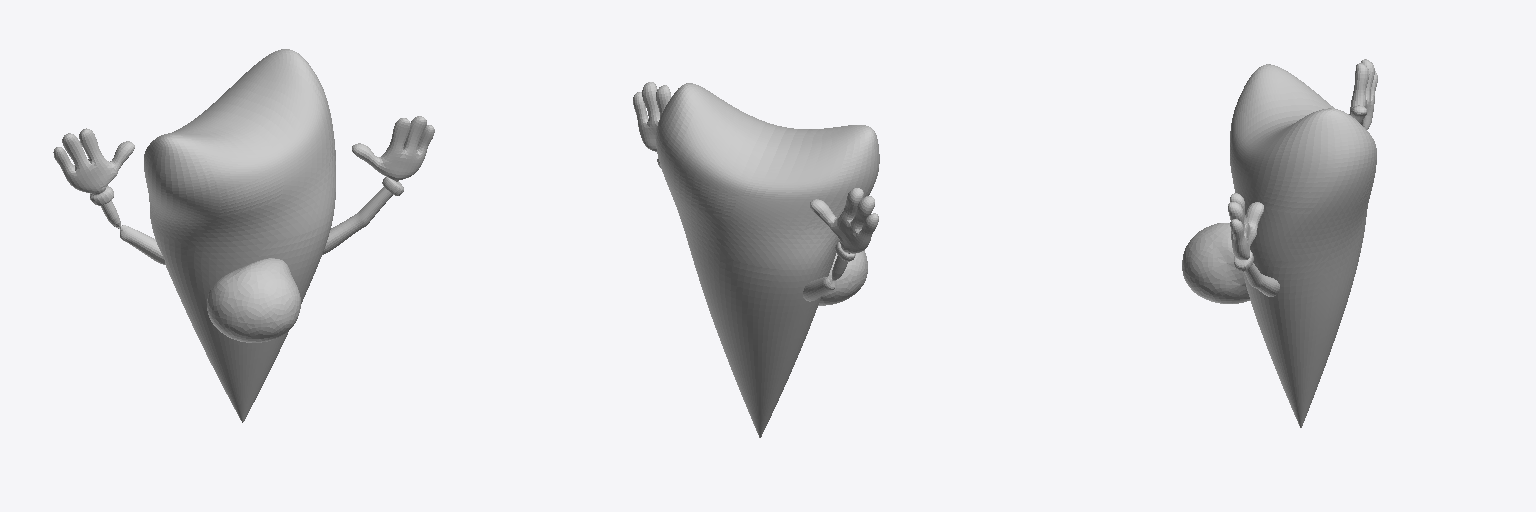
Rendered from java-duke4.obj.
3 views of the same model, side by side, from view 1: azimuth 30°, elevation 25°; view 2: azimuth 150°, elevation 25°; view 3: azimuth 270°, elevation 25° (orthographic).
Parts seen in each view (by area): view 1: javadude, javadude_hands, javadude_nase; view 2: javadude, javadude_hands, javadude_nase; view 3: javadude, javadude_nase, javadude_hands.
Part boxes in pixels (x1,y1,x2,y2): javadude: (144,49,335,422); javadude_hands: (53,116,434,264); javadude_nase: (207,258,300,342); javadude: (656,83,879,437); javadude_hands: (633,82,878,301); javadude_nase: (818,250,867,305); javadude: (1230,64,1376,427); javadude_nase: (1182,223,1249,303); javadude_hands: (1228,59,1377,296).
Bounding box in the file's own units: 3.84 × 4.09 × 2.09.